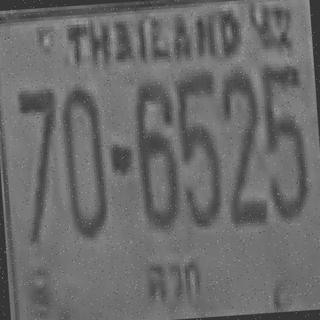N00: (59, 84, 108, 237)
N02: (218, 68, 263, 205)
N05: (258, 62, 310, 218), (174, 70, 223, 226), (174, 68, 219, 165)
N06: (131, 78, 179, 228)
N07: (16, 86, 63, 235), (16, 86, 61, 217), (16, 86, 60, 201), (16, 86, 59, 189)
P69: (140, 254, 209, 308)
